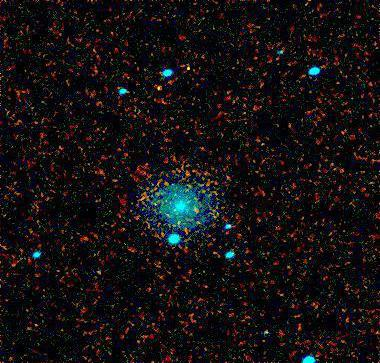star: (173, 55, 203, 85)
